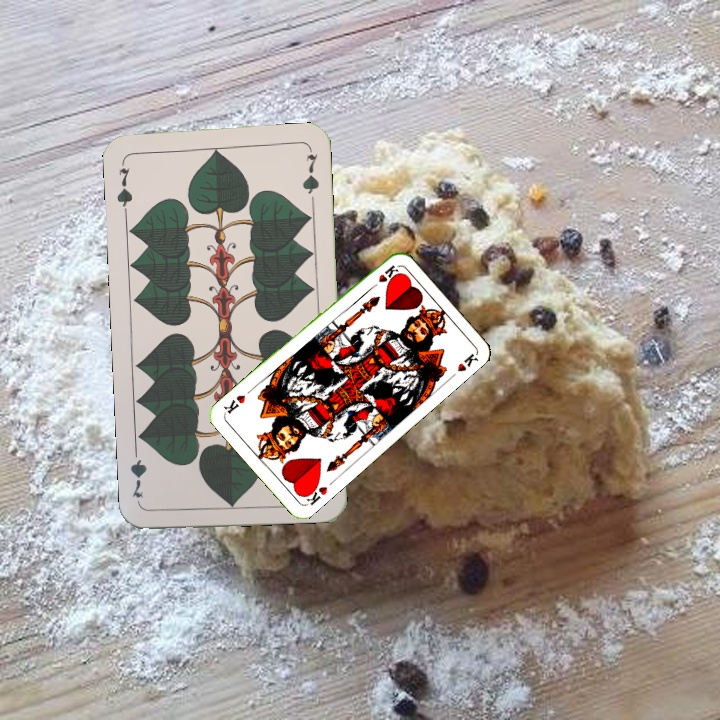G7: (112, 164, 135, 215)
HK: (365, 261, 400, 293), (299, 478, 330, 508)
